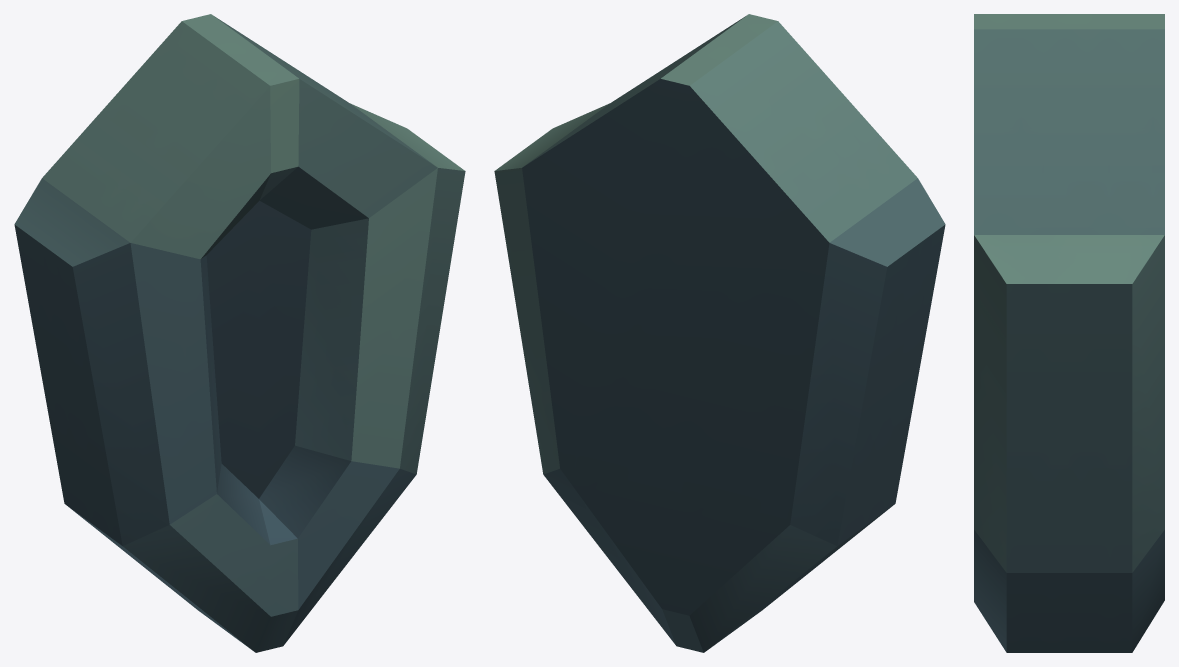
Rendered from ornament_7.fbx.
3 renders of one model, left to right at view 1: azimuth 30°, elevation 25°; view 2: azimuth 150°, elevation 25°; view 3: azimuth 270°, elevation 25°, orthographic. The views are drawn at different scales.
Parts seen in each view (by area): view 1: ornament_7; view 2: ornament_7; view 3: ornament_7.
Part boxes in pixels (<box>): ornament_7: <box>14,14,465,652</box>; ornament_7: <box>494,14,945,652</box>; ornament_7: <box>974,14,1164,652</box>.
Bounding box in the file's own units: 83.68 × 118 × 32.63.
